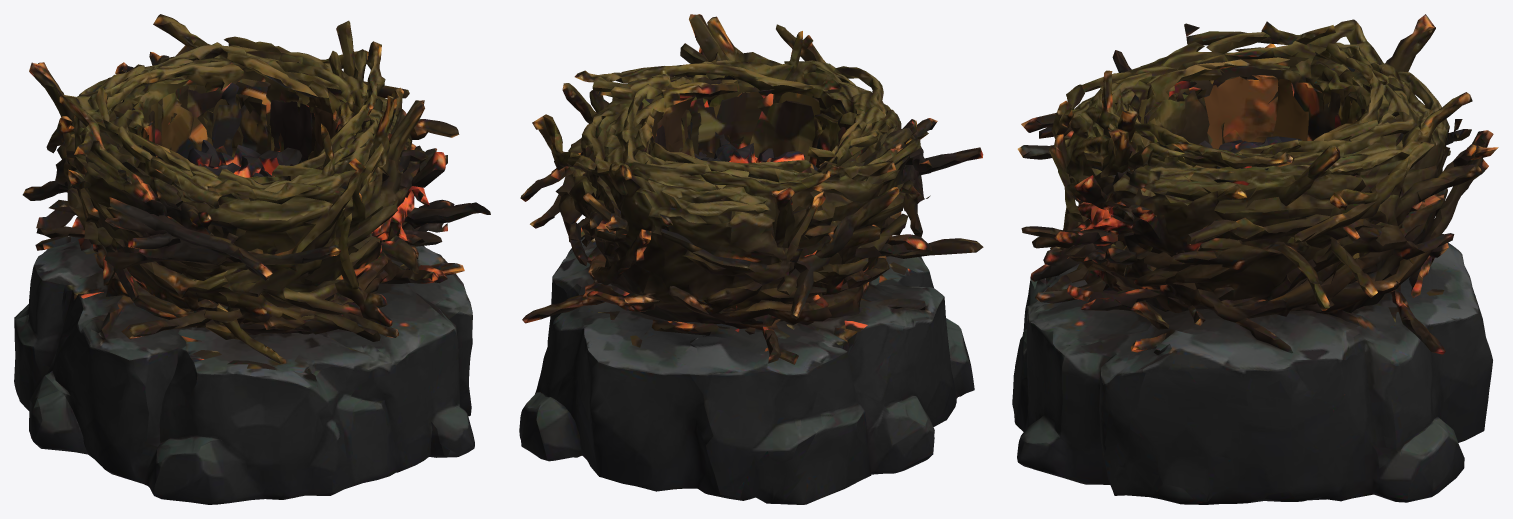
The model's file is fire_bird_nest.glb.
3 views of the same model, side by side, from view 1: azimuth 30°, elevation 25°; view 2: azimuth 150°, elevation 25°; view 3: azimuth 270°, elevation 25° (orthographic). The views are drawn at different scales.
Visible parts, largest first — view 1: fire_bird_nest; view 2: fire_bird_nest; view 3: fire_bird_nest.
Boxes of the visible parts, x1,y1,x2,y2 form: fire_bird_nest: (14,14,490,504); fire_bird_nest: (519,14,983,504); fire_bird_nest: (1012,14,1498,504).
Size of the model in its own units: 1.57 by 1.31 by 1.6.
1 material, 1 textured.
